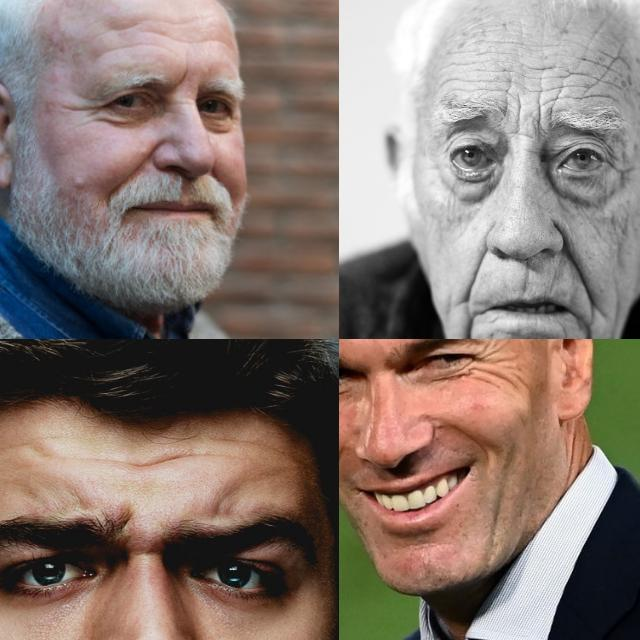chin: (402, 542, 442, 554)
crows_feet: (476, 344, 516, 384), (67, 99, 107, 125)
forehead: (82, 41, 176, 61), (123, 448, 200, 472), (218, 436, 286, 460), (557, 76, 599, 104), (484, 62, 518, 94), (526, 62, 556, 96), (599, 44, 629, 78), (107, 16, 143, 38), (441, 71, 474, 93), (166, 10, 204, 28), (189, 33, 225, 47)
frown_line: (129, 539, 161, 563), (531, 102, 549, 138), (509, 98, 527, 132), (174, 64, 188, 98)
gummy_smile: (558, 234, 598, 298), (431, 414, 491, 446), (106, 146, 150, 188), (464, 238, 491, 296), (207, 165, 235, 207), (339, 439, 346, 479)
masseter: (491, 463, 511, 551)
sad_smile: (457, 319, 484, 339), (573, 318, 597, 339)
